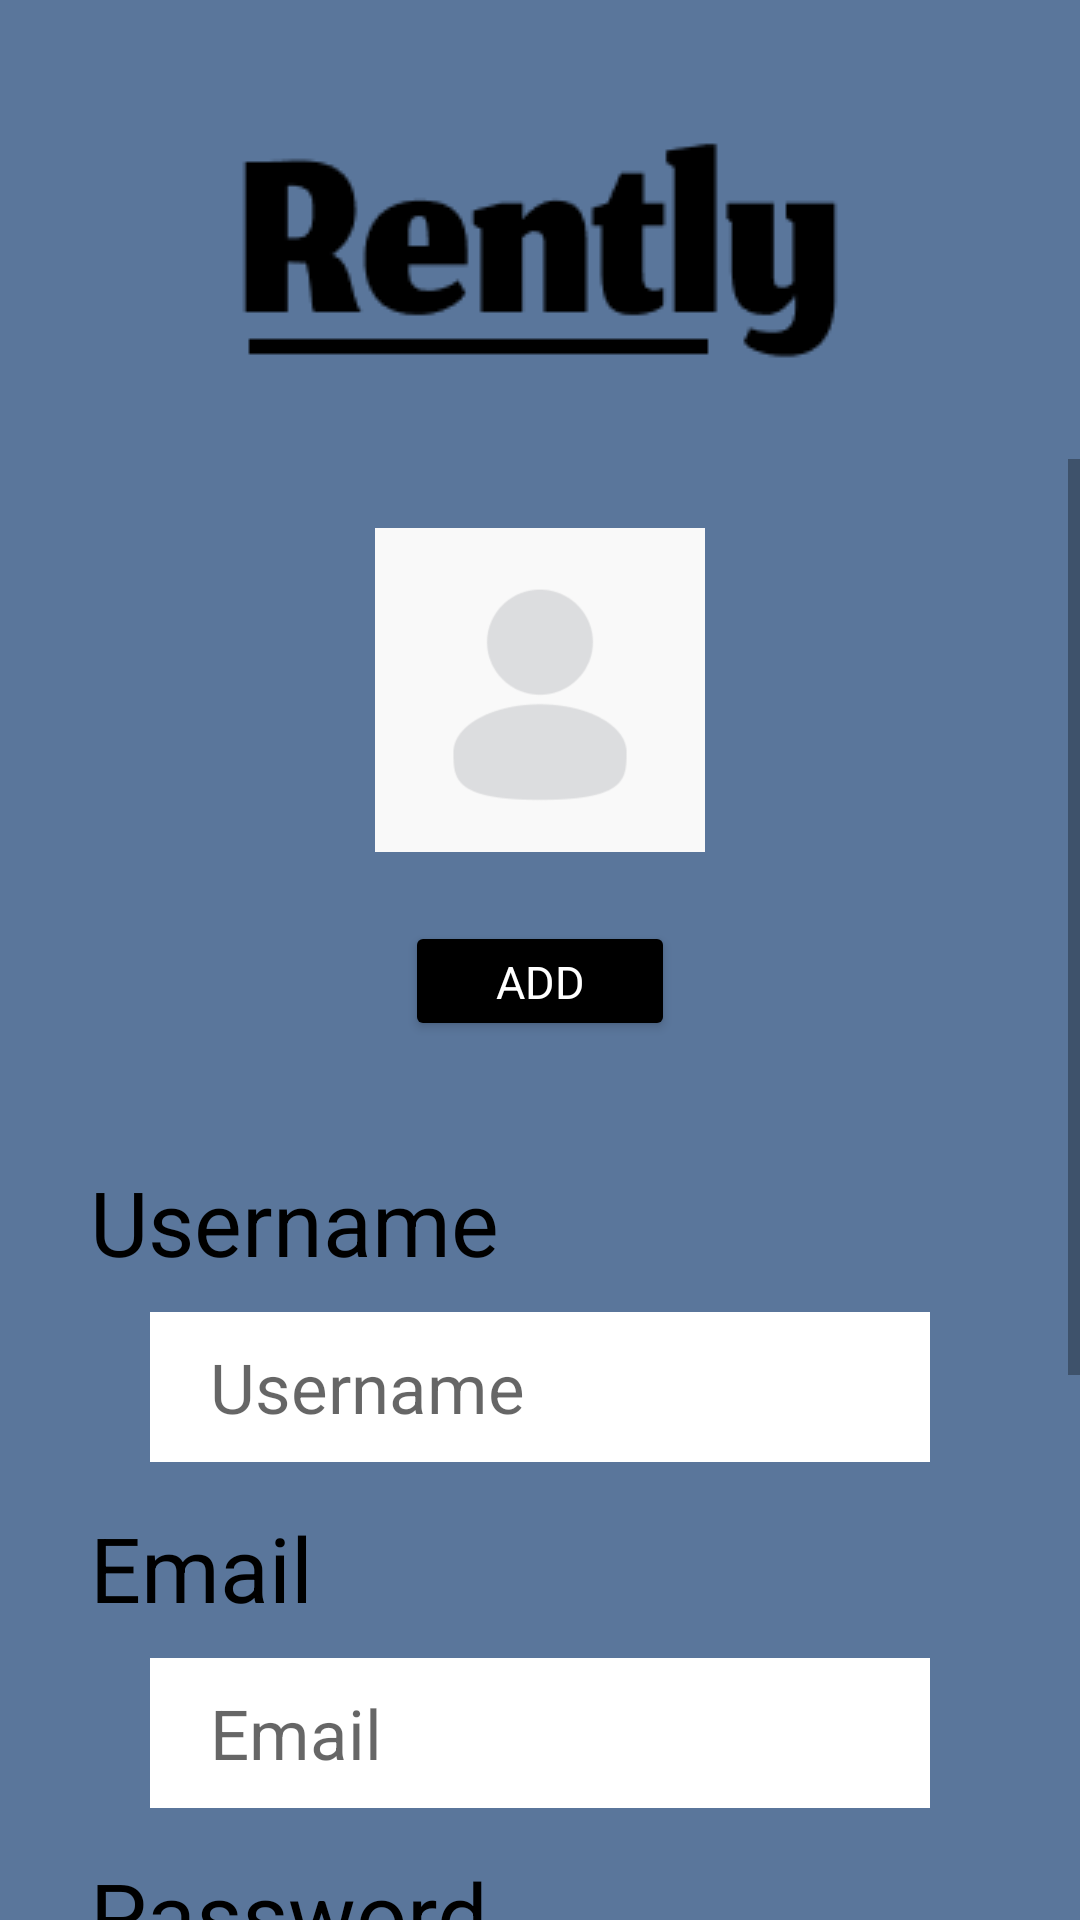

Named icons in this screenshot (1080*1920) and their bounding boxes, [left=x1, top=y1, right=x2, bottom=y2]:
Profile Picture: [left=375, top=528, right=705, bottom=852]
